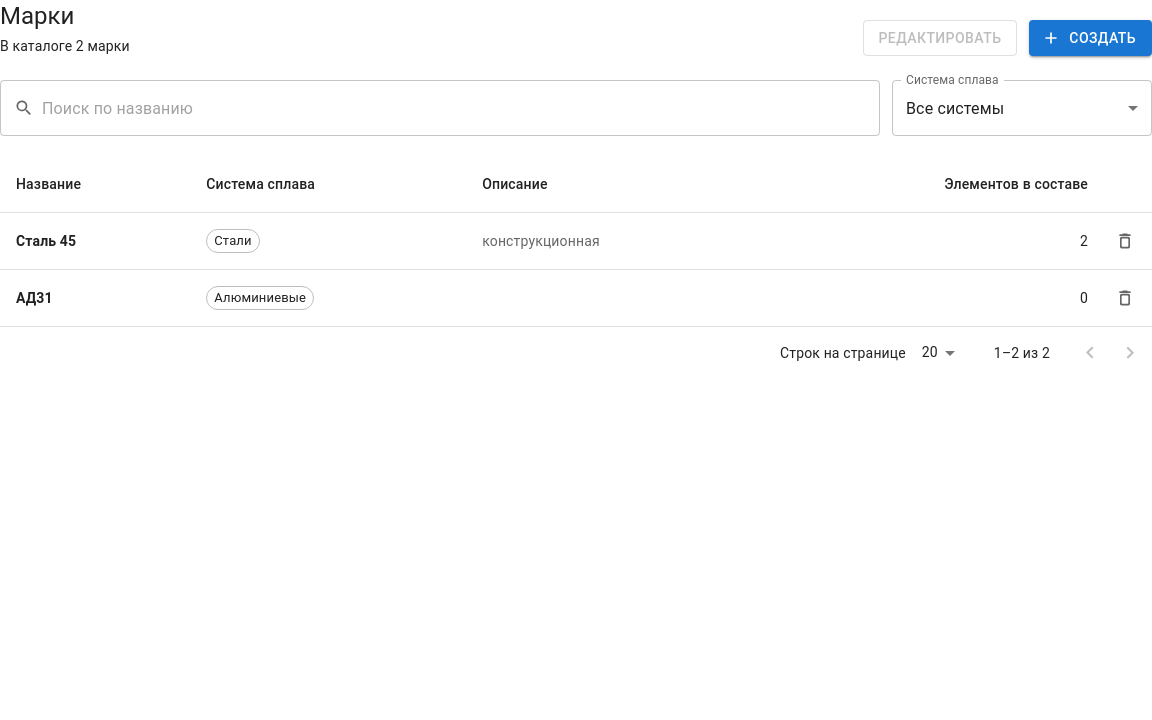
Test: GradesPage › deletes after confirmation and refetches list
The image size is (1152, 720).
Click the button named "Удалить" in the row of "Сталь 45" at [1125, 241], box [1110, 226, 1140, 256]
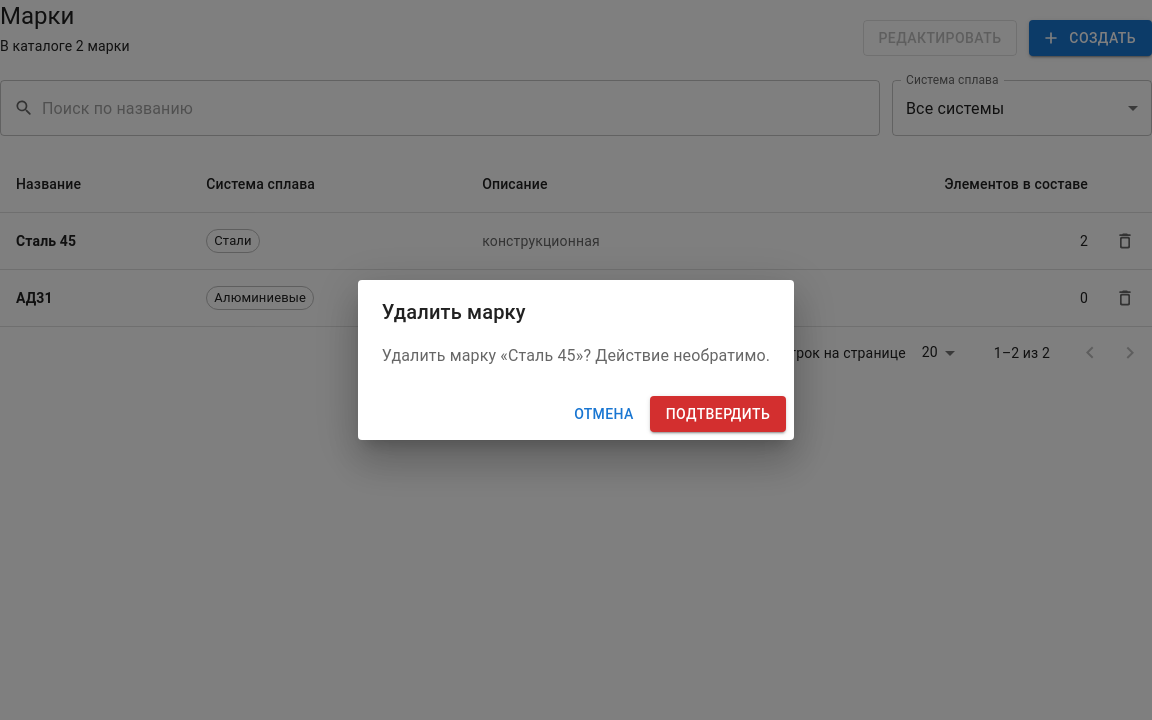
Result: the dialog is shown at [358, 280, 794, 440]
Click the button "Подтвердить" at [718, 414], box [650, 396, 786, 432]
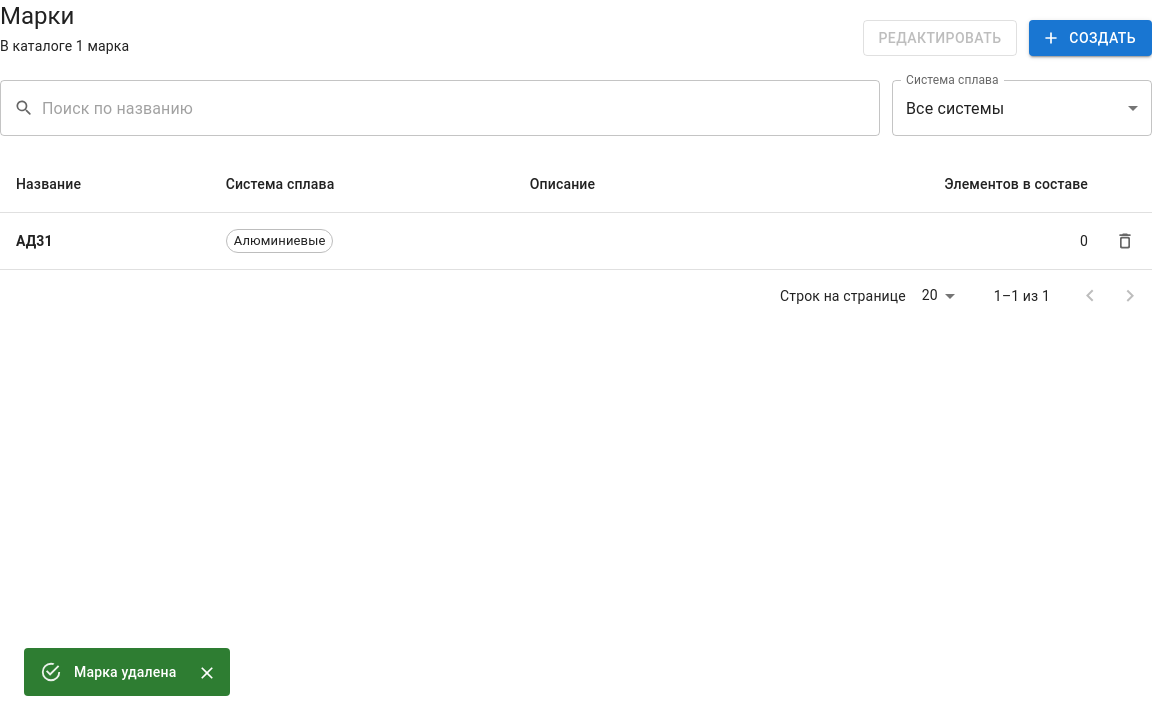
Expected: the text "АД31" is shown, [0, 212, 210, 270]
Result: the text "Сталь 45" is gone
Result: the text "Марка удалена" is shown at [74, 664, 176, 680]
